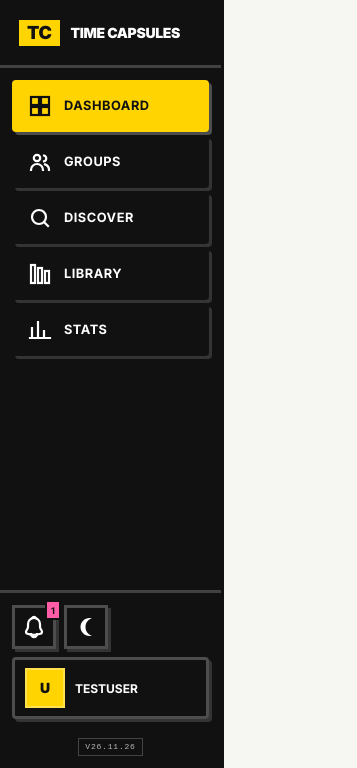
Scenario: Layout › renders NotificationPanel with notifications list when opened
Click the button named "Notifications": {"x": 34, "y": 627} [12, 605, 56, 649]
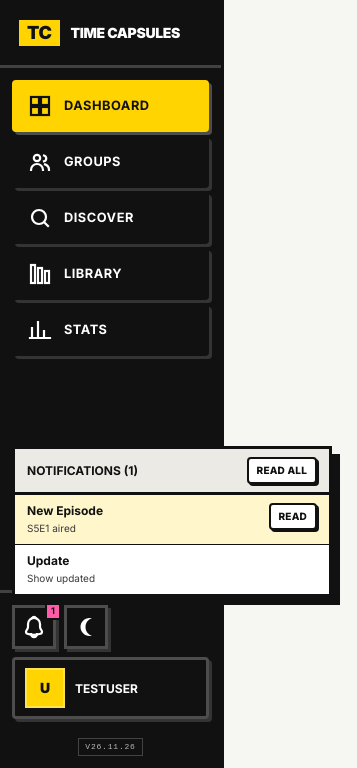
Check: the text "New Episode" is shown, box [27, 503, 103, 518]
Check: the text "Update" is shown, box [27, 553, 69, 568]
